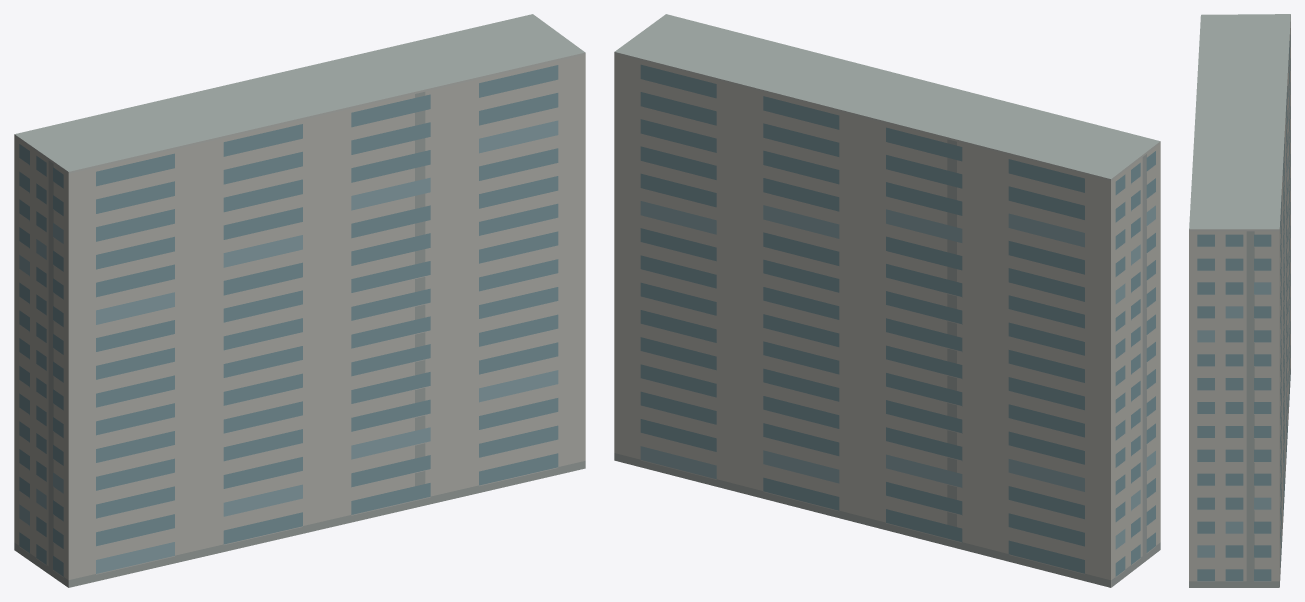
The model's file is residential-6e85bd8e-2ca0-4234-aa25-c5bc0567c6df.glb.
3 views of the same model, side by side, from view 1: azimuth 30°, elevation 25°; view 2: azimuth 150°, elevation 25°; view 3: azimuth 270°, elevation 25° (orthographic). The views are drawn at different scales.
Visible parts, largest first — view 1: residential-6e85bd8e-2ca0-4234-aa25-c5bc0567c6df.tmp; view 2: residential-6e85bd8e-2ca0-4234-aa25-c5bc0567c6df.tmp; view 3: residential-6e85bd8e-2ca0-4234-aa25-c5bc0567c6df.tmp.
Part boxes in pixels (x1,y1,x2,y2): residential-6e85bd8e-2ca0-4234-aa25-c5bc0567c6df.tmp: (14, 14, 585, 587); residential-6e85bd8e-2ca0-4234-aa25-c5bc0567c6df.tmp: (614, 14, 1160, 587); residential-6e85bd8e-2ca0-4234-aa25-c5bc0567c6df.tmp: (1189, 14, 1290, 587).
Size of the model in its own units: 60.55 by 47 by 12.1.
